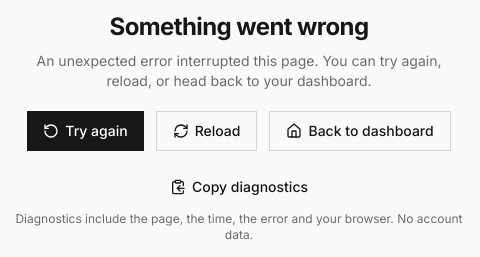
Test: ErrorBoundary › copies diagnostics with the route and error, never the session token
Click the button "Copy diagnostics".
click(239, 187)  # box [158,171,320,203]
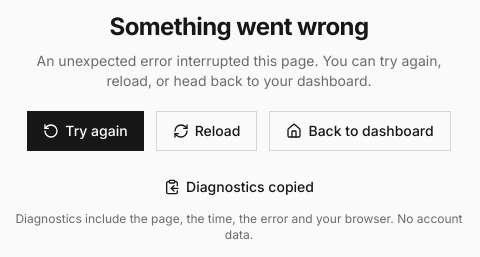
Check: the button "Diagnostics copied" is shown, box [152,171,326,203]
